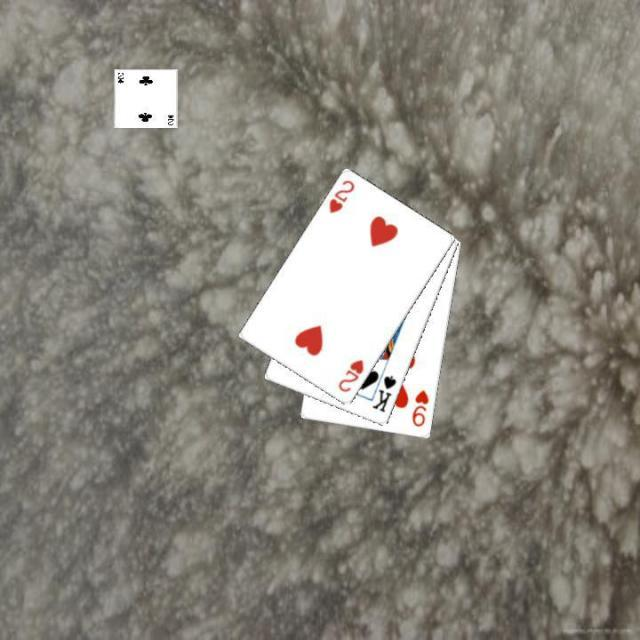2H: (334, 356, 366, 394), (326, 176, 356, 216)
9H: (408, 386, 431, 428)
KS: (368, 372, 398, 414)
